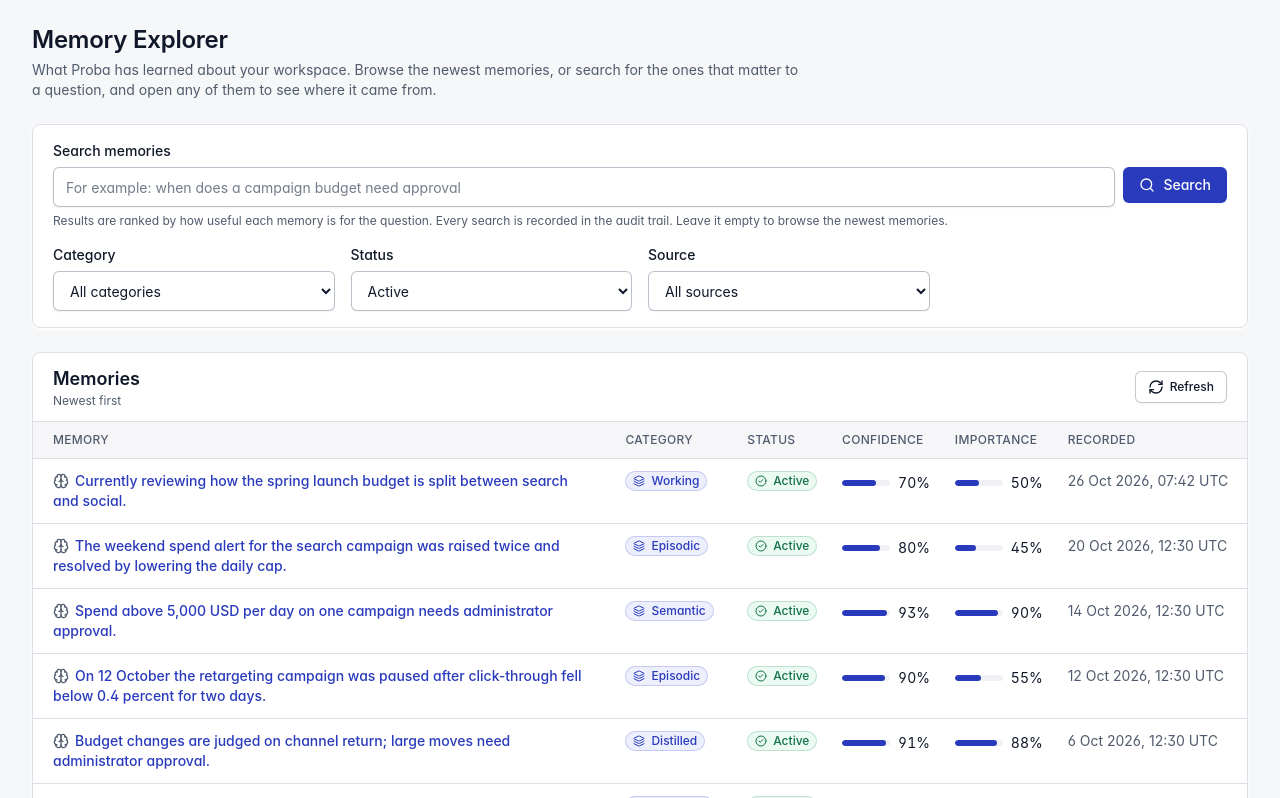
Test case: MemoryExplorerView › searches, ranks the matches and keeps the question in the address
In the search field labelled "Search memories": (584, 187) [53,167,1115,207], type "campaign budget approval"
Then press Enter
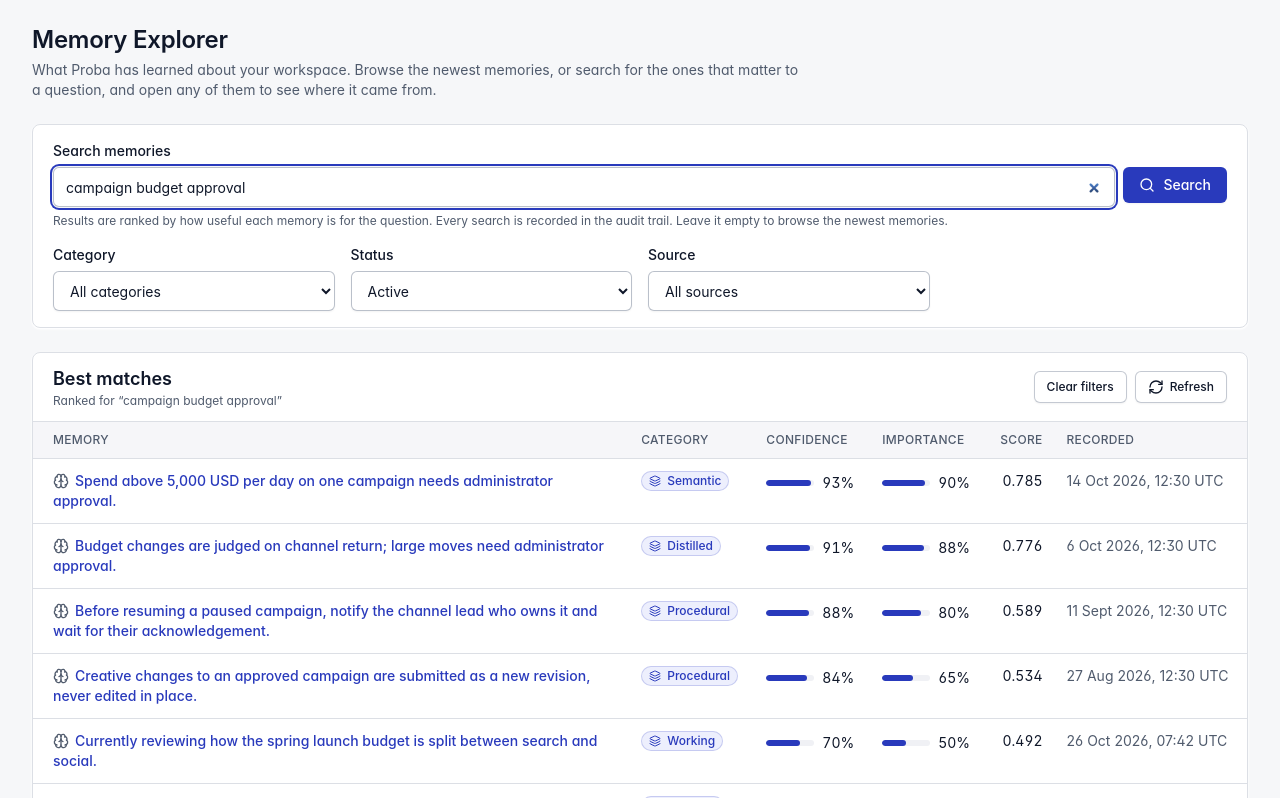
Expected: the 1st link shows "5,000 USD", [53,471,609,511]
Expected: the column heading "Score" is shown, [986,422,1055,458]
